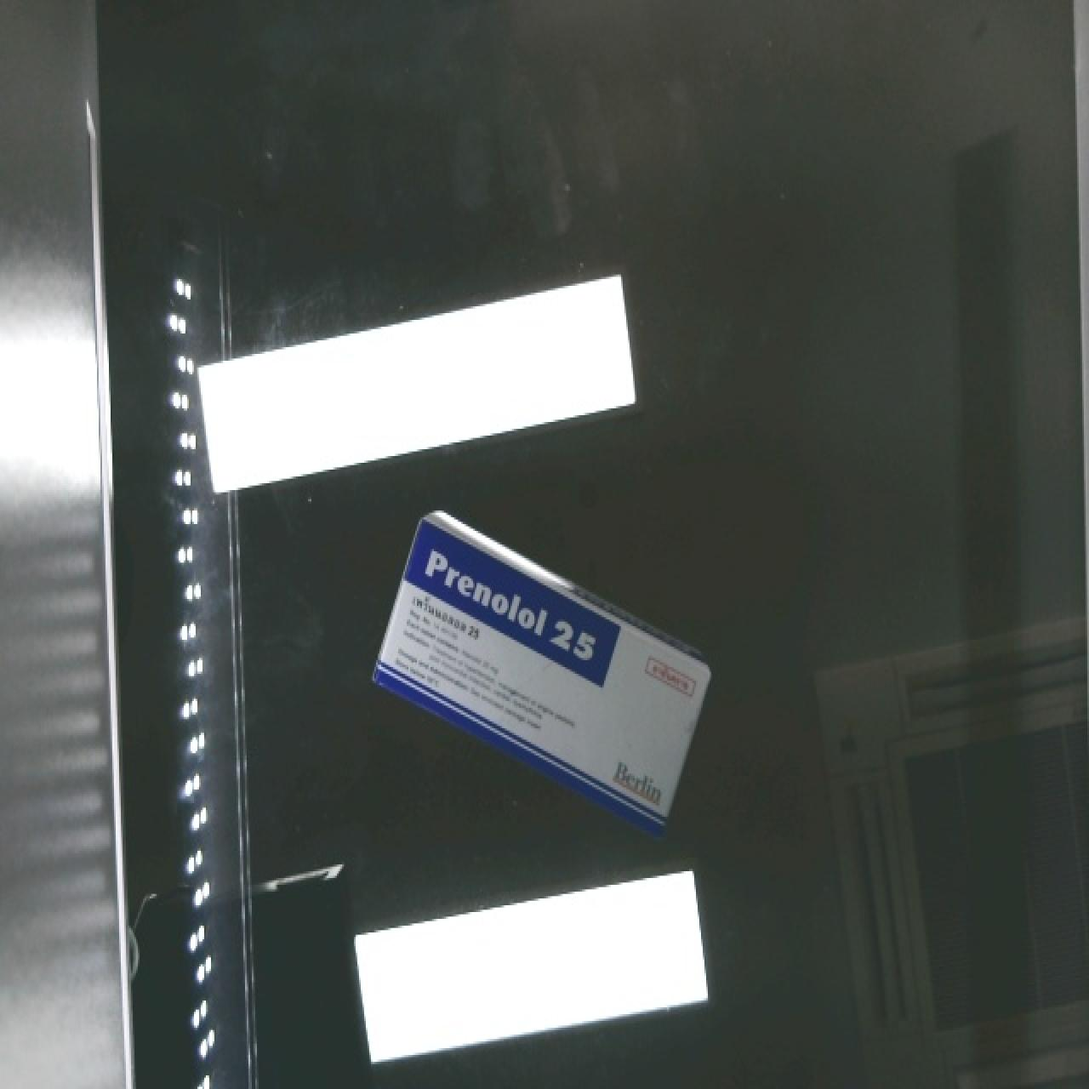medicine_label_obb: (391, 519, 635, 688)
